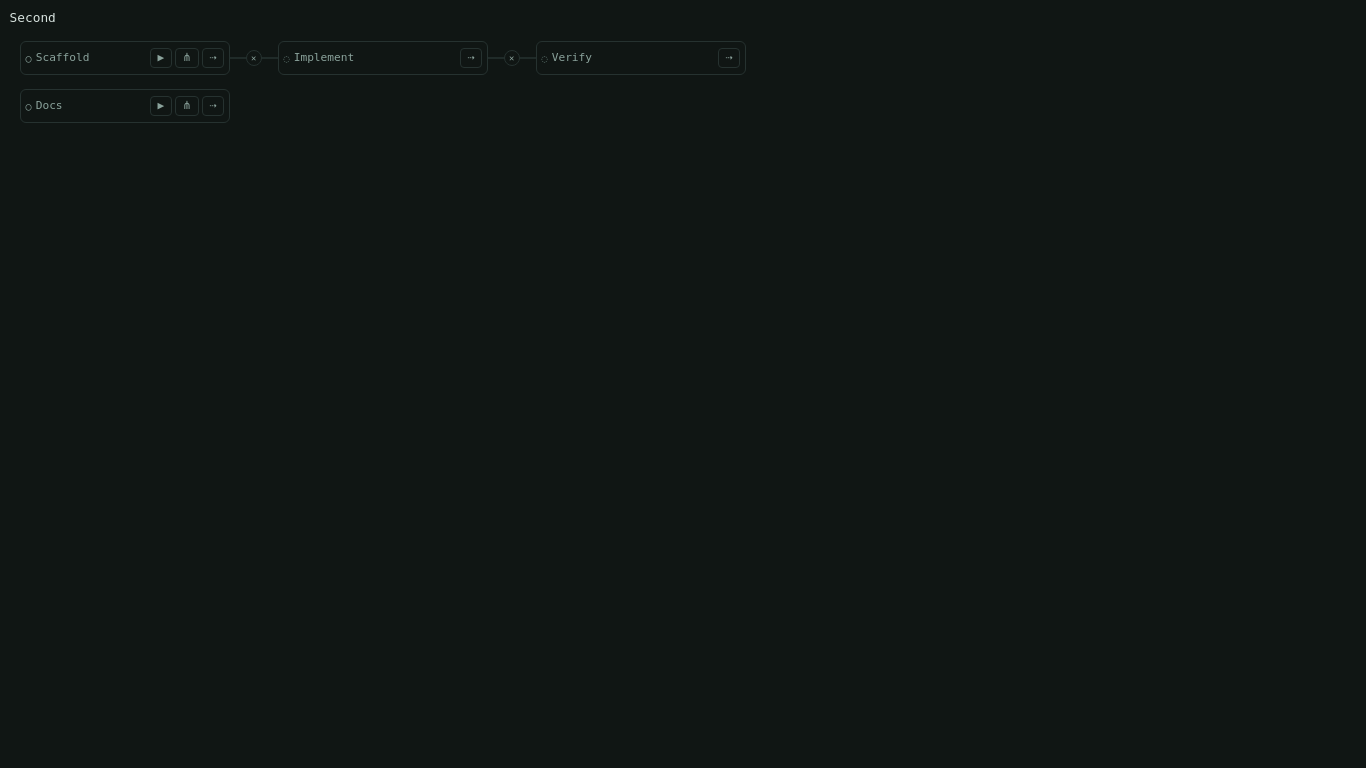
it: PlanCanvas › scopes edge events to their plan and ignores a duplicate edge
Expected: the number of buttons named "Remove dependency Scaffold → Implement" is 1, [246,50,262,66]
What coordinates should you click on to do the following:
click the button with aria-label "Trace Implement"
I would click on:
 (370, 58)
Its box is [283,52,457,64].
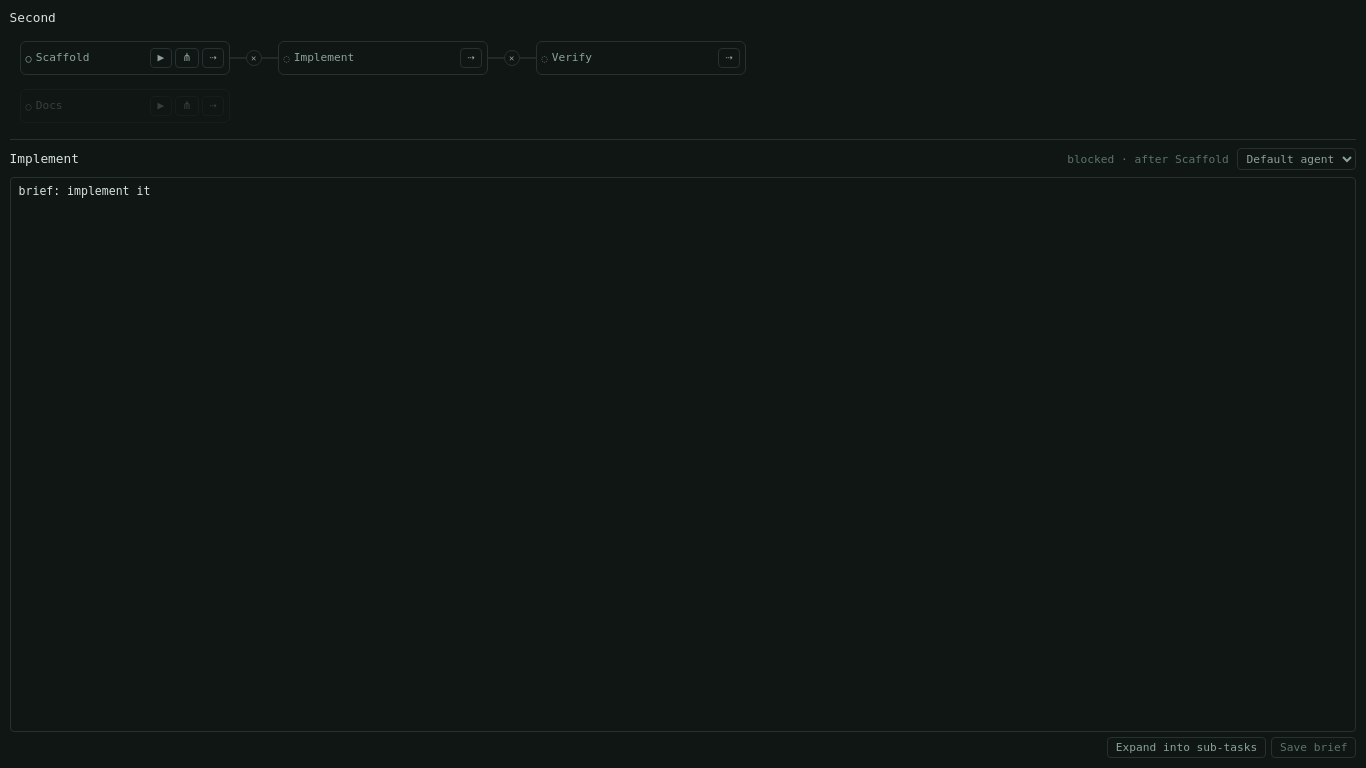
Expected: the button with aria-label "Trace Docs" is shown, [25,100,147,112]
Expected: the dropdown named "Agent type for Implement" shows "Default agent", [1237,148,1356,170]
Expected: the text box named "Brief for Implement" holds "brief: implement it"
